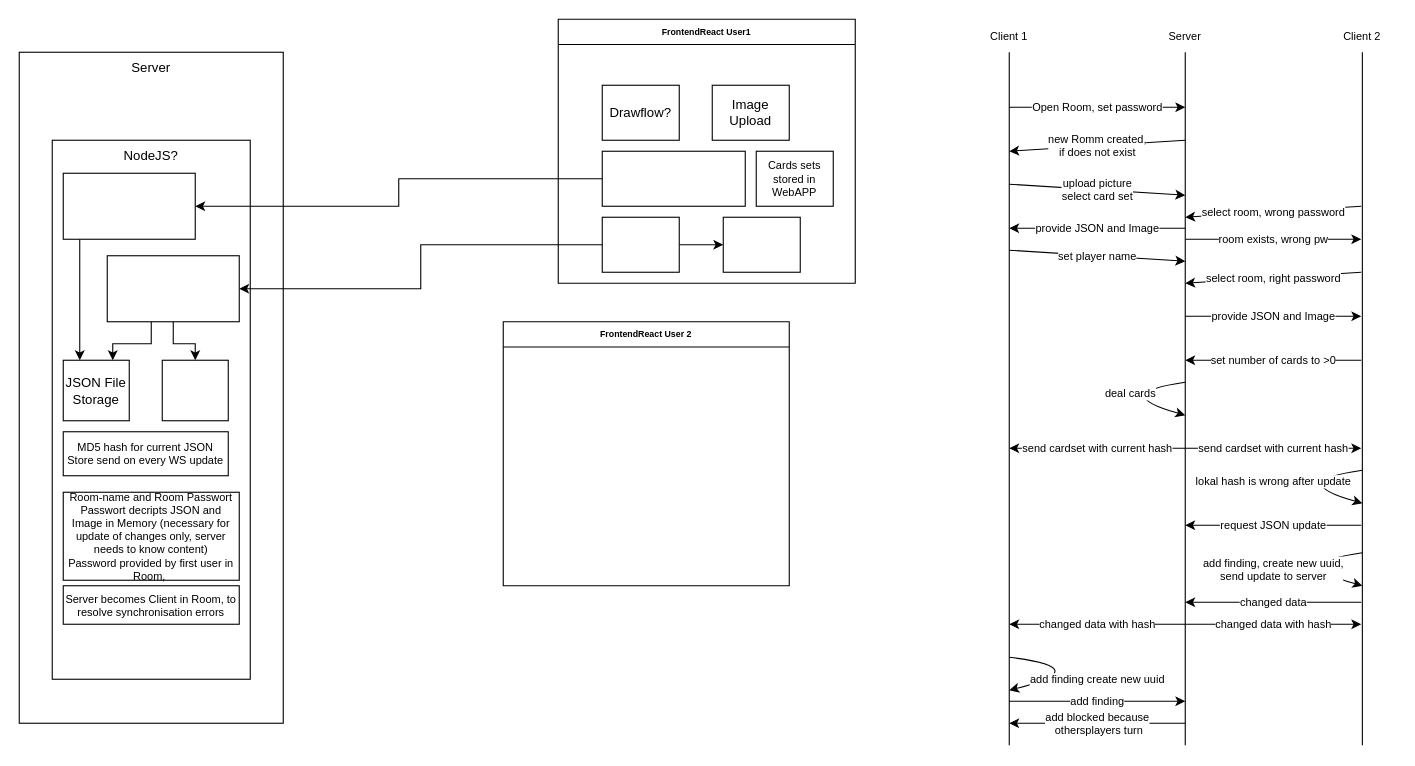
Image size: 1415x766. Some labels were removed from this diagram. Each missing label, with the box of its shape:
Downloader: (601, 216, 679, 272)
Image Storage: (161, 359, 228, 421)
JSOn Download for Start or actualisation: (106, 255, 239, 322)
LocalStorage for Image and UserID: (722, 216, 800, 272)
WS Communicator to understand small changes: (601, 150, 745, 206)
WS for small changes: (62, 172, 195, 239)
